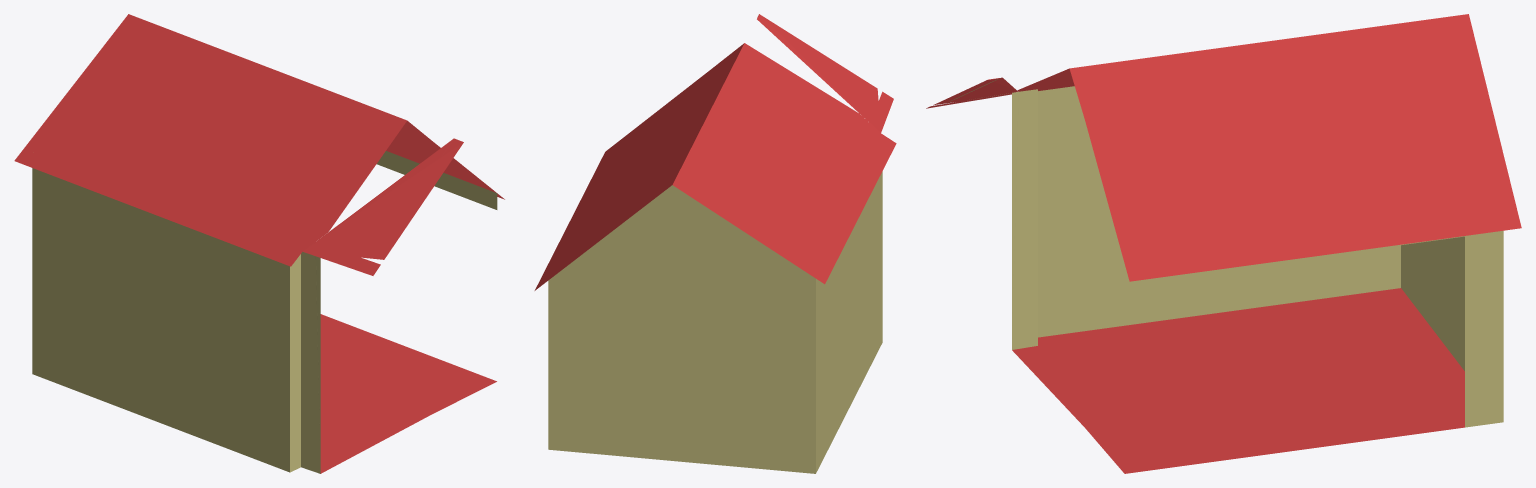
3 views of the same model, side by side, from view 1: azimuth 30°, elevation 25°; view 2: azimuth 150°, elevation 25°; view 3: azimuth 270°, elevation 25° (orthographic). The views are drawn at different scales.
Bounding box in the file's own units: 16.38 × 20.71 × 13.14.
